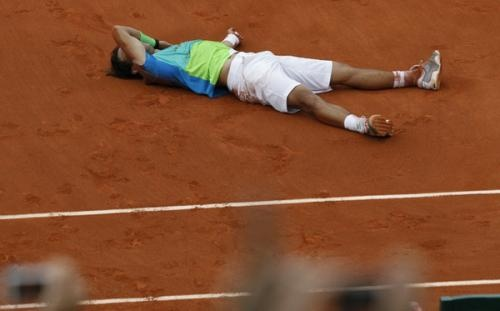falling: (102, 13, 440, 142)
